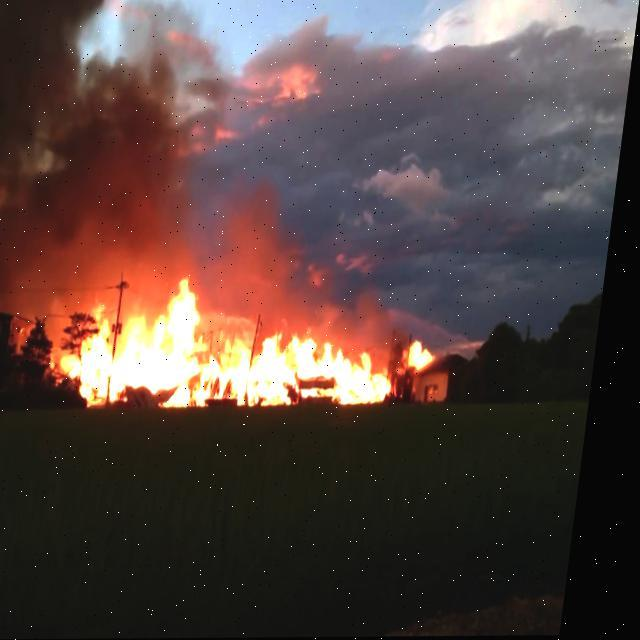Fire: (56, 274, 418, 406), (410, 336, 444, 373)
